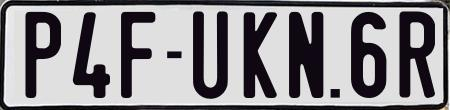4: (70, 12, 108, 104)
6: (348, 12, 383, 98)
F: (120, 10, 158, 99)
K: (244, 9, 283, 97)
N: (289, 12, 323, 101)
P: (24, 12, 63, 103)
R: (399, 10, 433, 98)
U: (191, 11, 227, 103)
